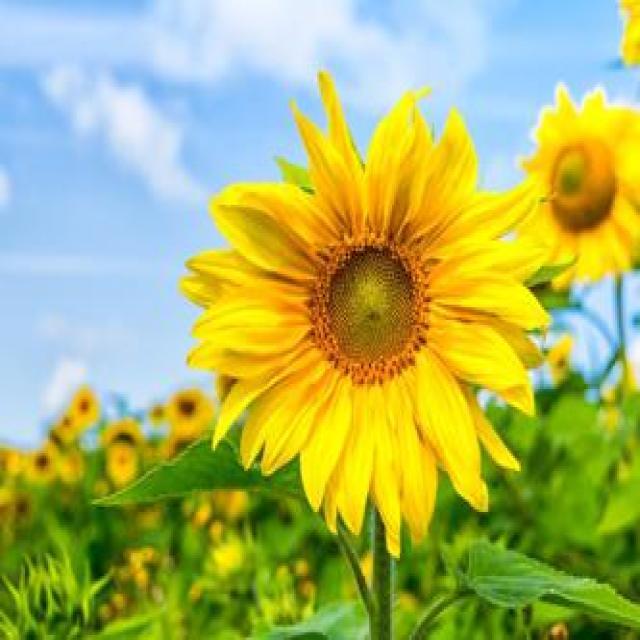sunflower: (173, 67, 557, 556), (515, 82, 640, 287), (162, 380, 217, 444), (105, 437, 143, 488), (69, 383, 100, 431), (26, 442, 60, 482)
